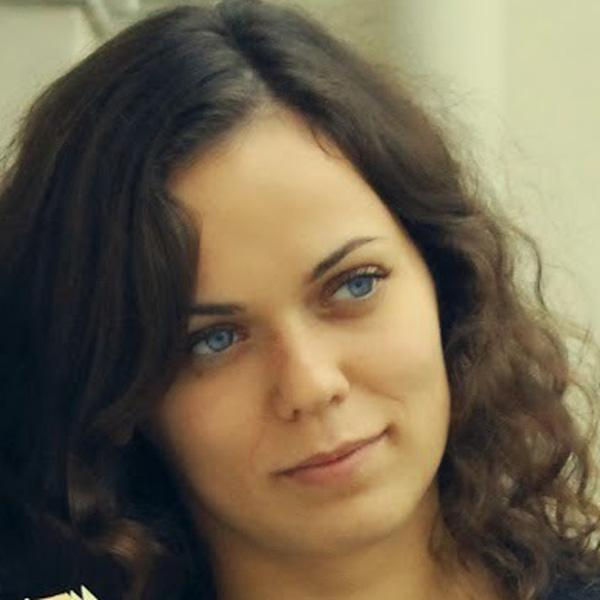Eyes: (317, 253, 394, 319), (175, 313, 256, 368)
